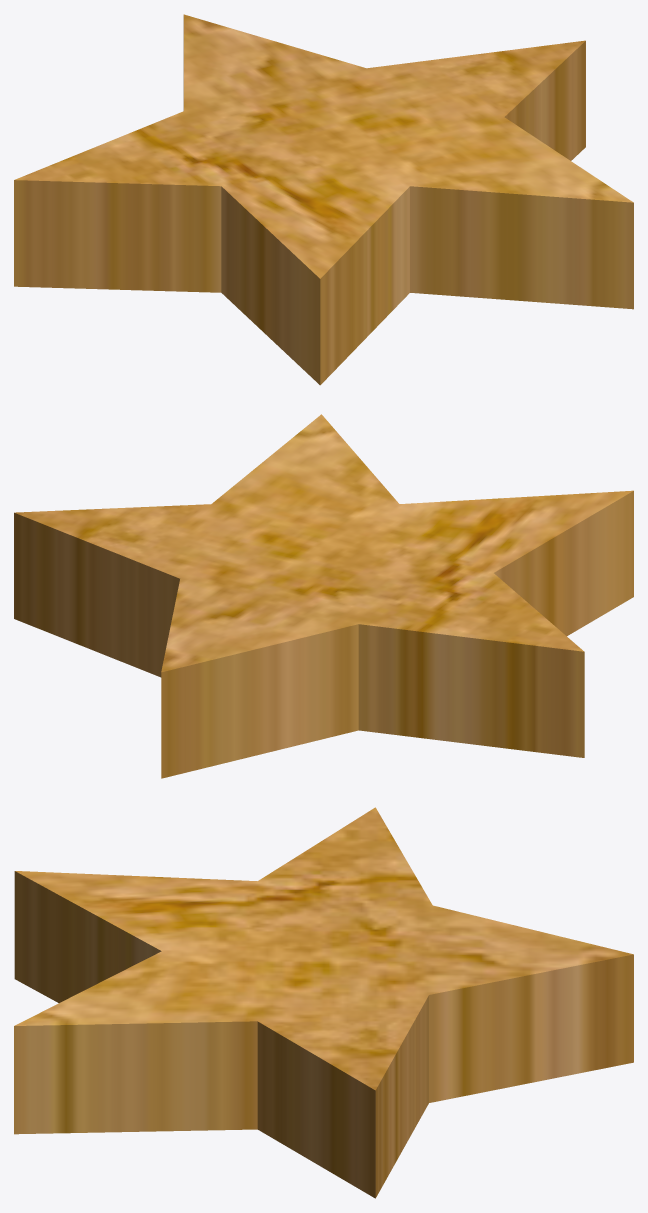
Rendered from bakeCookie.fbx.
3 renders of one model, top to bottom at view 1: azimuth 30°, elevation 25°; view 2: azimuth 150°, elevation 25°; view 3: azimuth 270°, elevation 25°, orthographic.
Visible parts, largest first — view 1: pDisc1; view 2: pDisc1; view 3: pDisc1.
Part boxes in pixels (x1=…): pDisc1: x1=14, y1=14, x2=633, y2=385; pDisc1: x1=14, y1=414, x2=633, y2=778; pDisc1: x1=14, y1=807, x2=633, y2=1198.
Bounding box in the file's own units: 28.44 × 5.06 × 26.3.
Materials: 1 (1 with a texture image).
